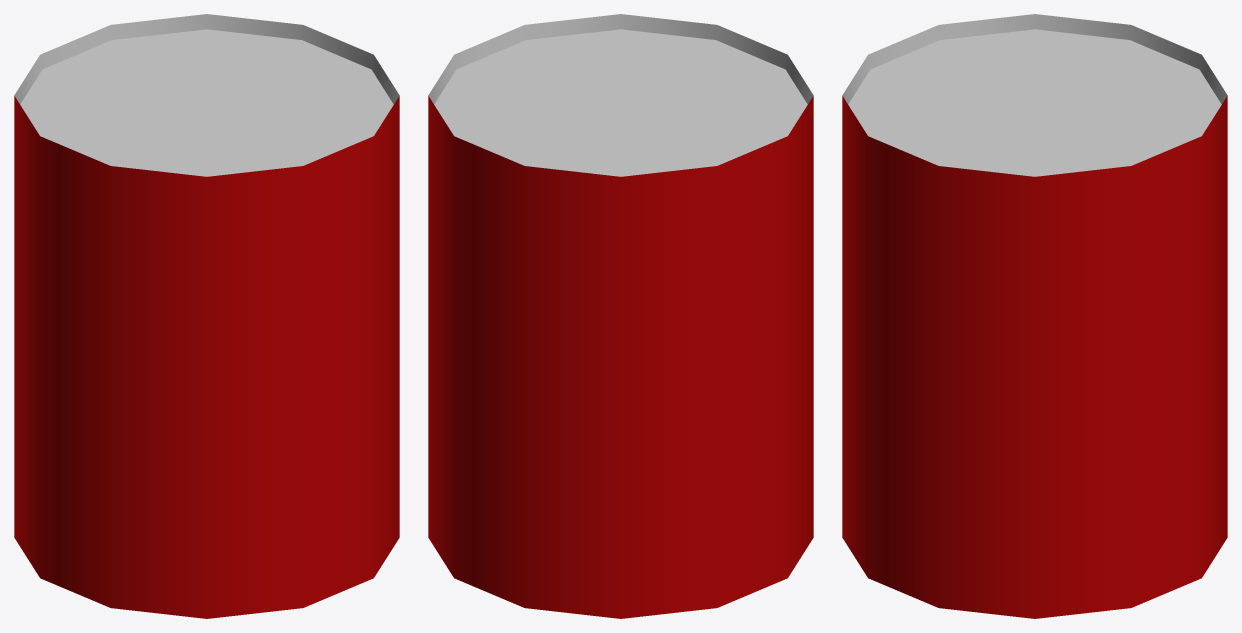
The model's file is Can.fbx.
The picture shows the model from 3 angles, left to right: view 1: azimuth 30°, elevation 25°; view 2: azimuth 150°, elevation 25°; view 3: azimuth 270°, elevation 25°; orthographic projection.
Parts seen in each view (by area): view 1: Cylinder; view 2: Cylinder; view 3: Cylinder.
Part boxes in pixels (x1,y1,x2,y2): Cylinder: [14, 14, 399, 618]; Cylinder: [428, 14, 813, 618]; Cylinder: [842, 14, 1227, 618].
Size of the model in its own units: 9.48 by 12 by 9.48.
